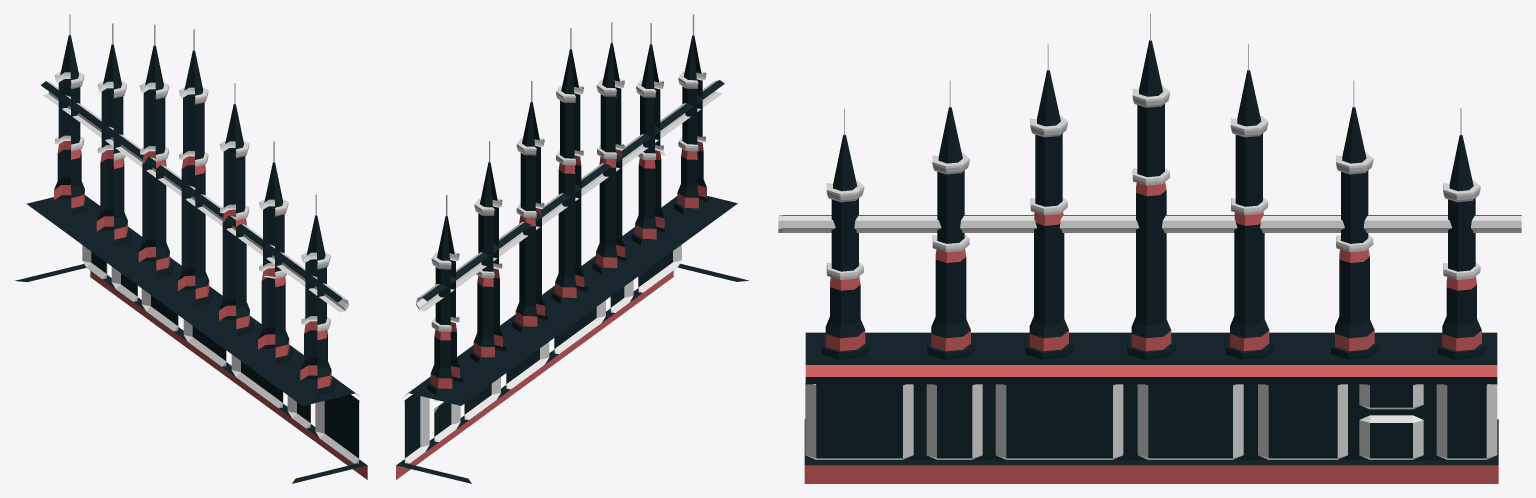
Rendered from city_fence.fbx.
The picture shows the model from 3 angles, left to right: view 1: azimuth 30°, elevation 25°; view 2: azimuth 150°, elevation 25°; view 3: azimuth 270°, elevation 25°; orthographic projection. The views are drawn at different scales.
Parts seen in each view (by area): view 1: Fence; view 2: Fence; view 3: Fence.
Boxes of the visible parts, x1=… form: Fence: x1=15, y1=14, x2=367, y2=483; Fence: x1=396, y1=14, x2=748, y2=483; Fence: x1=778, y1=14, x2=1521, y2=483.
Size of the model in its own units: 78.38 by 353 by 531.
